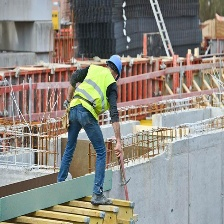helmet: (106, 54, 122, 74)
person: (64, 54, 124, 206)
vest: (67, 67, 116, 127)
